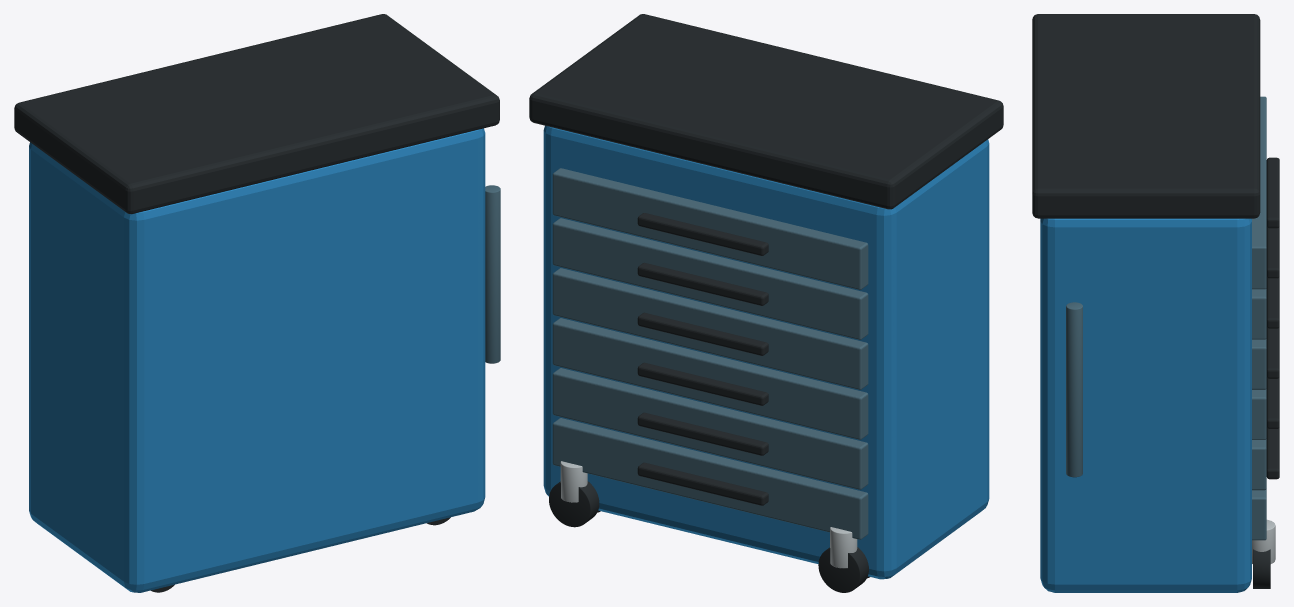
The model's file is mobile_tool_cabinet.glb.
3 views of the same model, side by side, from view 1: azimuth 30°, elevation 25°; view 2: azimuth 150°, elevation 25°; view 3: azimuth 270°, elevation 25° (orthographic). The views are drawn at different scales.
Parts seen in each view (by area): view 1: CABINET_body, CABINET_top, CABINET_PUSH_HANDLE; view 2: CABINET_body, CABINET_top, DRAWER_1, DRAWER_3, DRAWER_2, DRAWER_5, DRAWER_4, DRAWER_0, HANDLE_0, HANDLE_1, HANDLE_3, HANDLE_4 (+6 smaller); view 3: CABINET_body, CABINET_top, CABINET_PUSH_HANDLE, DRAWER_5, HANDLE_5, DRAWER_0, DRAWER_4, DRAWER_1, DRAWER_3, DRAWER_2, HANDLE_2, HANDLE_3 (+5 smaller).
Boxes of the visible parts, x1,y1,x2,y2 form: CABINET_body: [29, 128, 485, 592]; CABINET_top: [14, 14, 499, 214]; CABINET_PUSH_HANDLE: [485, 185, 500, 363]; CABINET_body: [543, 125, 989, 579]; CABINET_top: [529, 14, 1003, 209]; DRAWER_1: [552, 368, 868, 489]; DRAWER_3: [552, 268, 868, 389]; DRAWER_2: [552, 318, 868, 439]; DRAWER_5: [552, 168, 868, 289]; DRAWER_4: [552, 218, 868, 339]; DRAWER_0: [552, 418, 868, 539]; HANDLE_0: [637, 462, 768, 505]; HANDLE_1: [637, 412, 768, 455]; HANDLE_3: [637, 312, 768, 355]; HANDLE_4: [637, 262, 768, 305]; CABINET_body: [1040, 218, 1251, 592]; CABINET_top: [1032, 14, 1260, 218]; CABINET_PUSH_HANDLE: [1066, 302, 1082, 477]; DRAWER_5: [1252, 96, 1266, 289]; HANDLE_5: [1266, 157, 1279, 228]; DRAWER_0: [1252, 489, 1266, 540]; DRAWER_4: [1252, 288, 1266, 339]; DRAWER_1: [1252, 439, 1266, 490]; DRAWER_3: [1252, 339, 1266, 389]; DRAWER_2: [1252, 389, 1266, 439]; HANDLE_2: [1266, 326, 1279, 378]; HANDLE_3: [1266, 276, 1279, 328].
Bounding box in the file's own units: 1.37 × 1.42 × 0.76.
